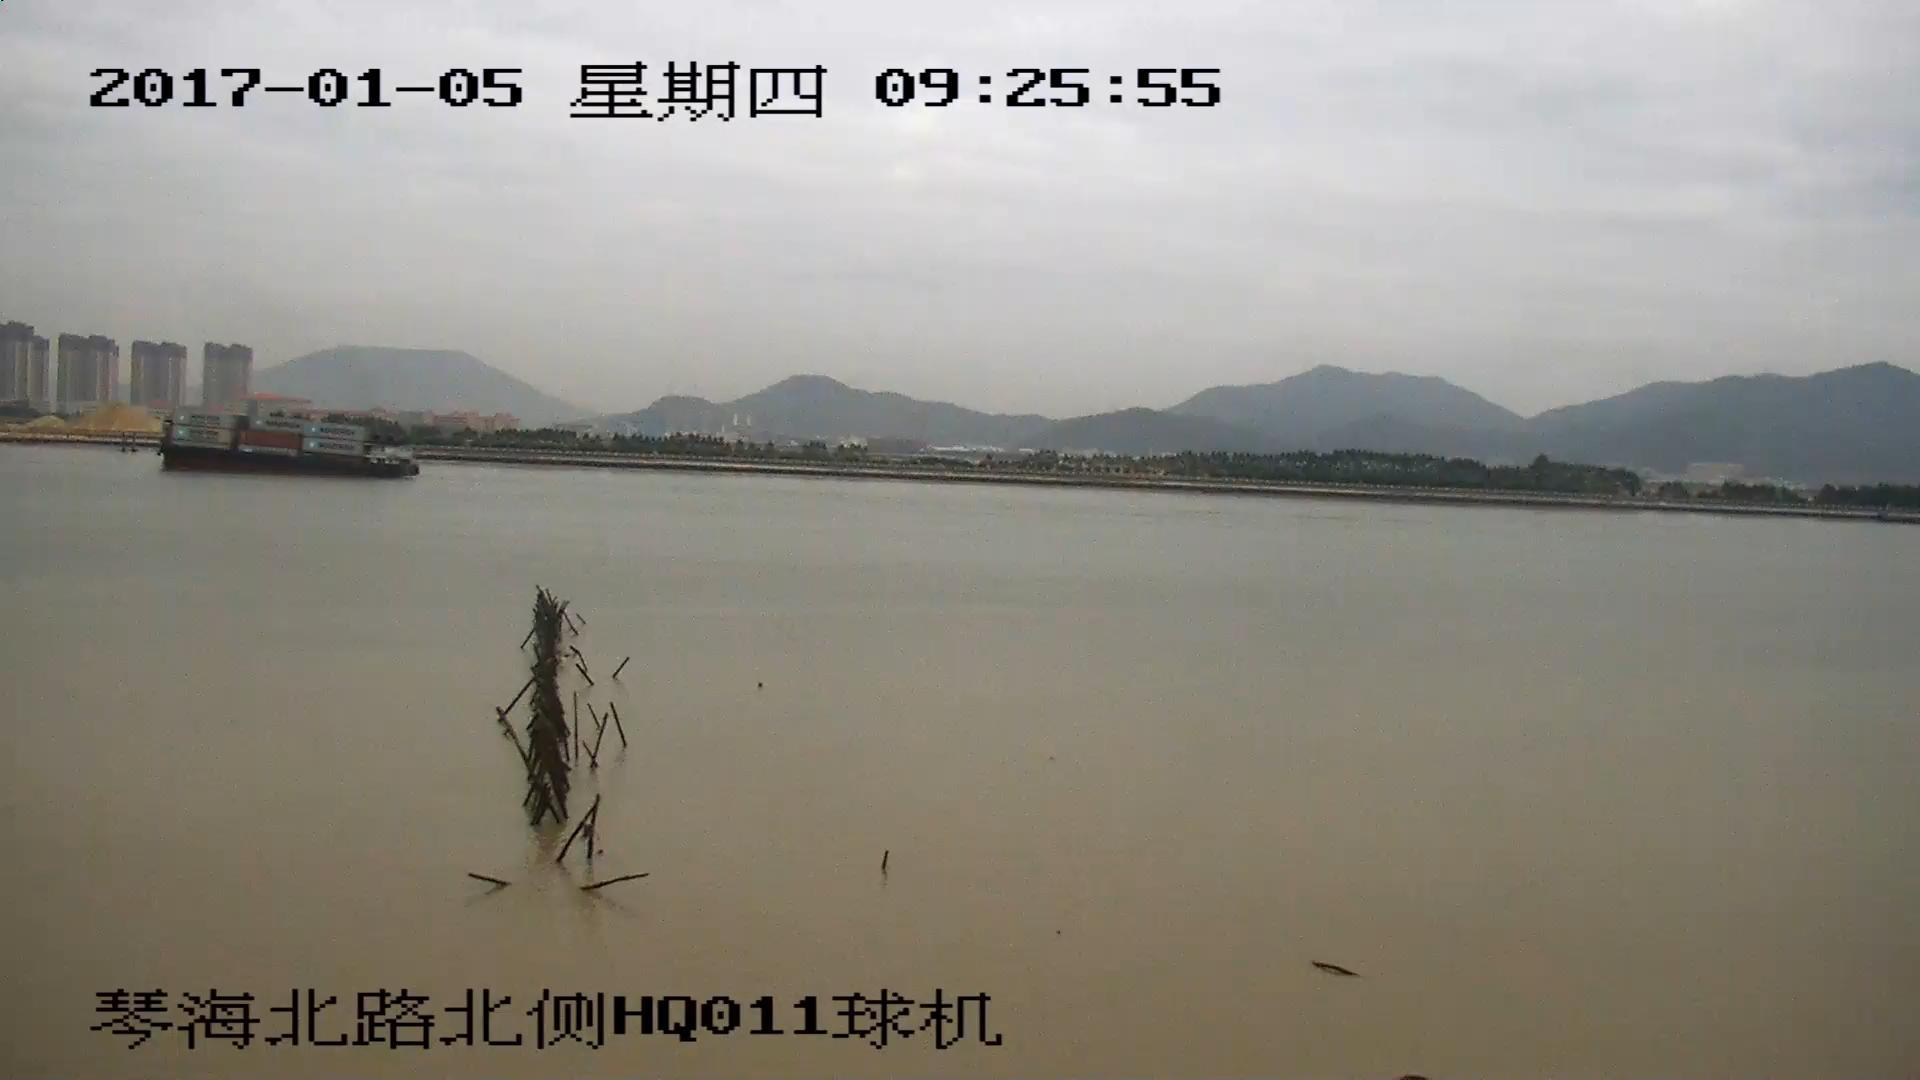Ship: (160, 417, 417, 477)
